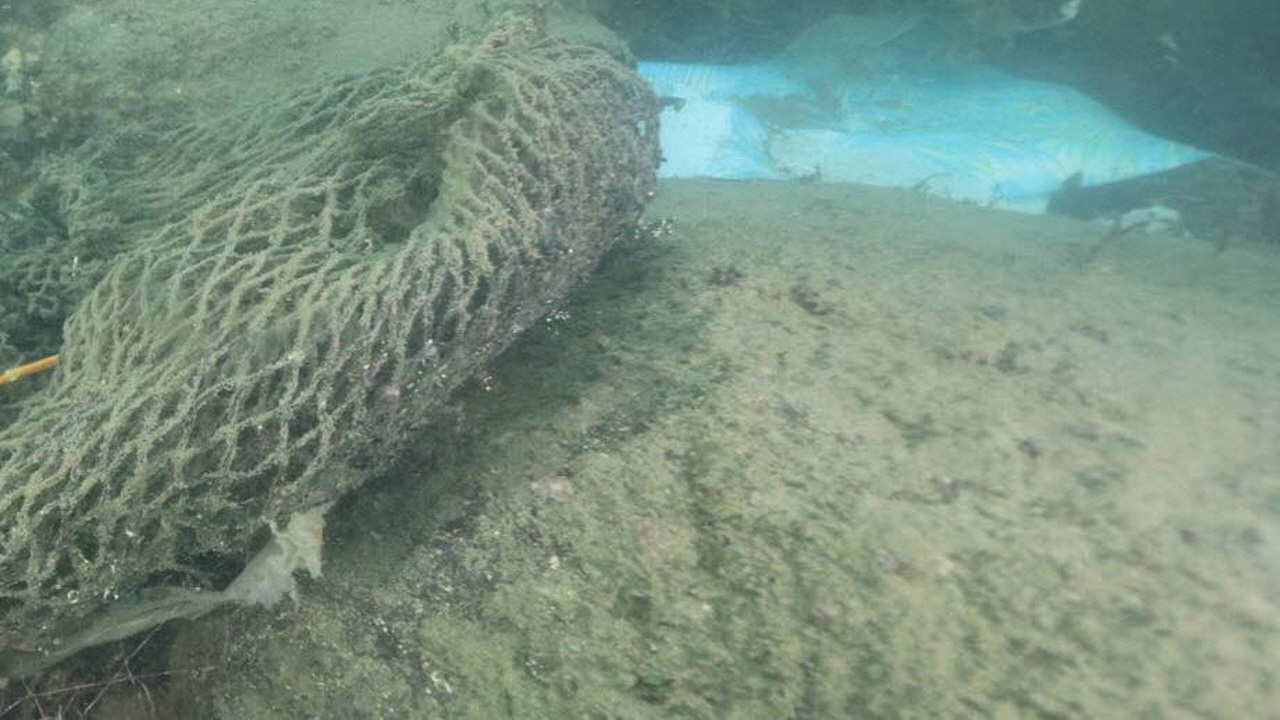fish net: (0, 32, 657, 621)
